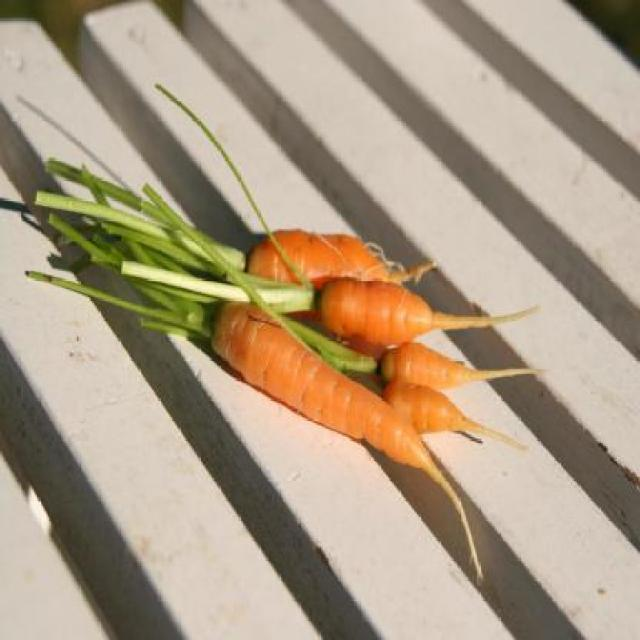Carrot: (26, 276, 485, 590), (36, 85, 438, 288)
